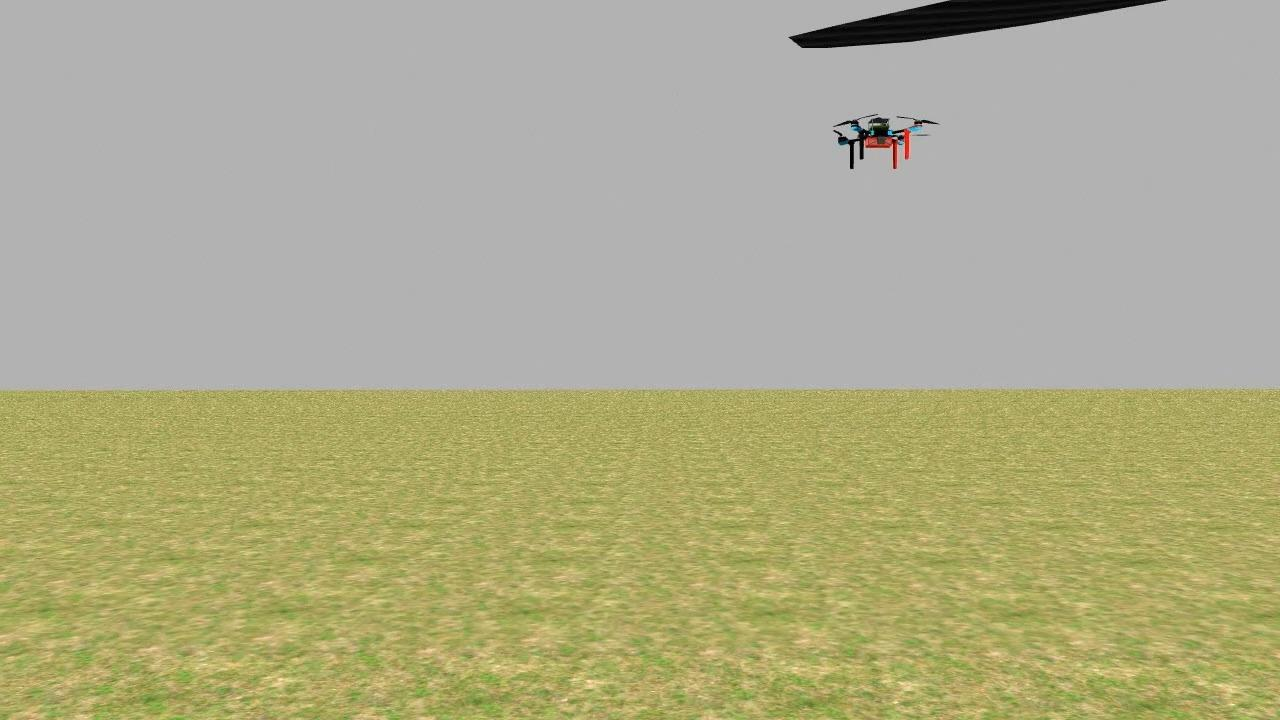UAV: (825, 108, 931, 176)
